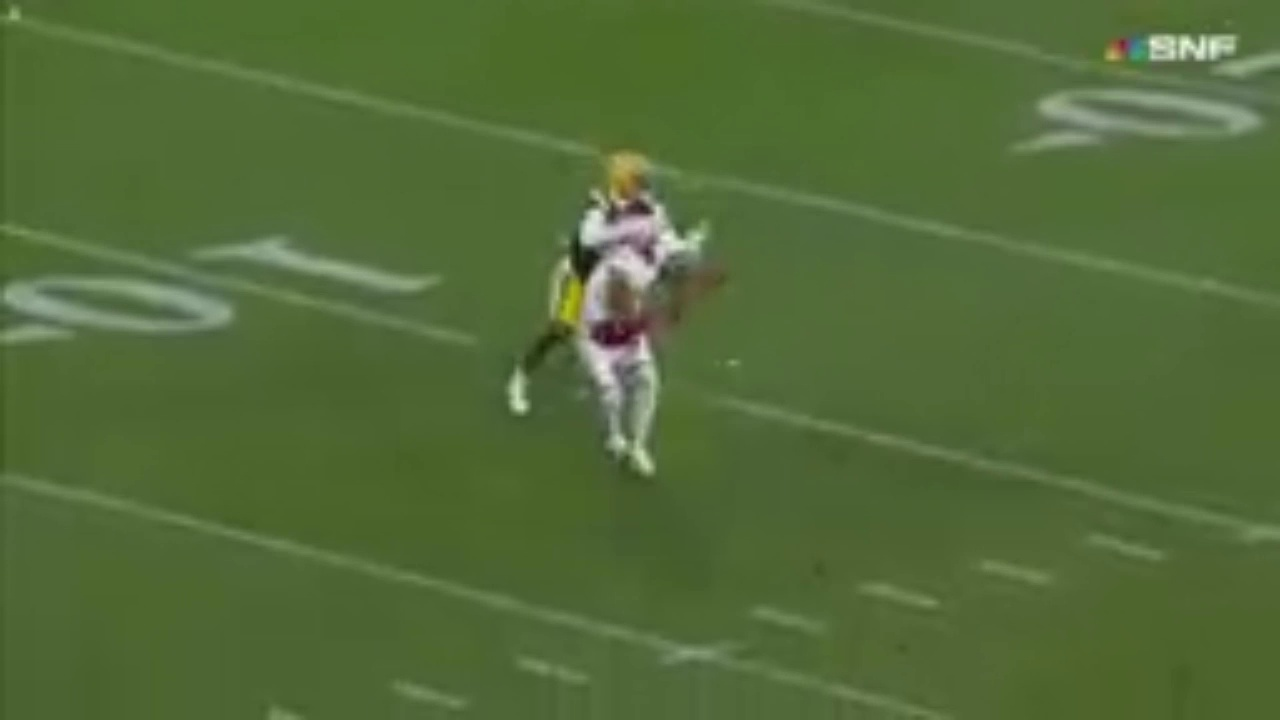interference: (587, 149, 657, 345)
